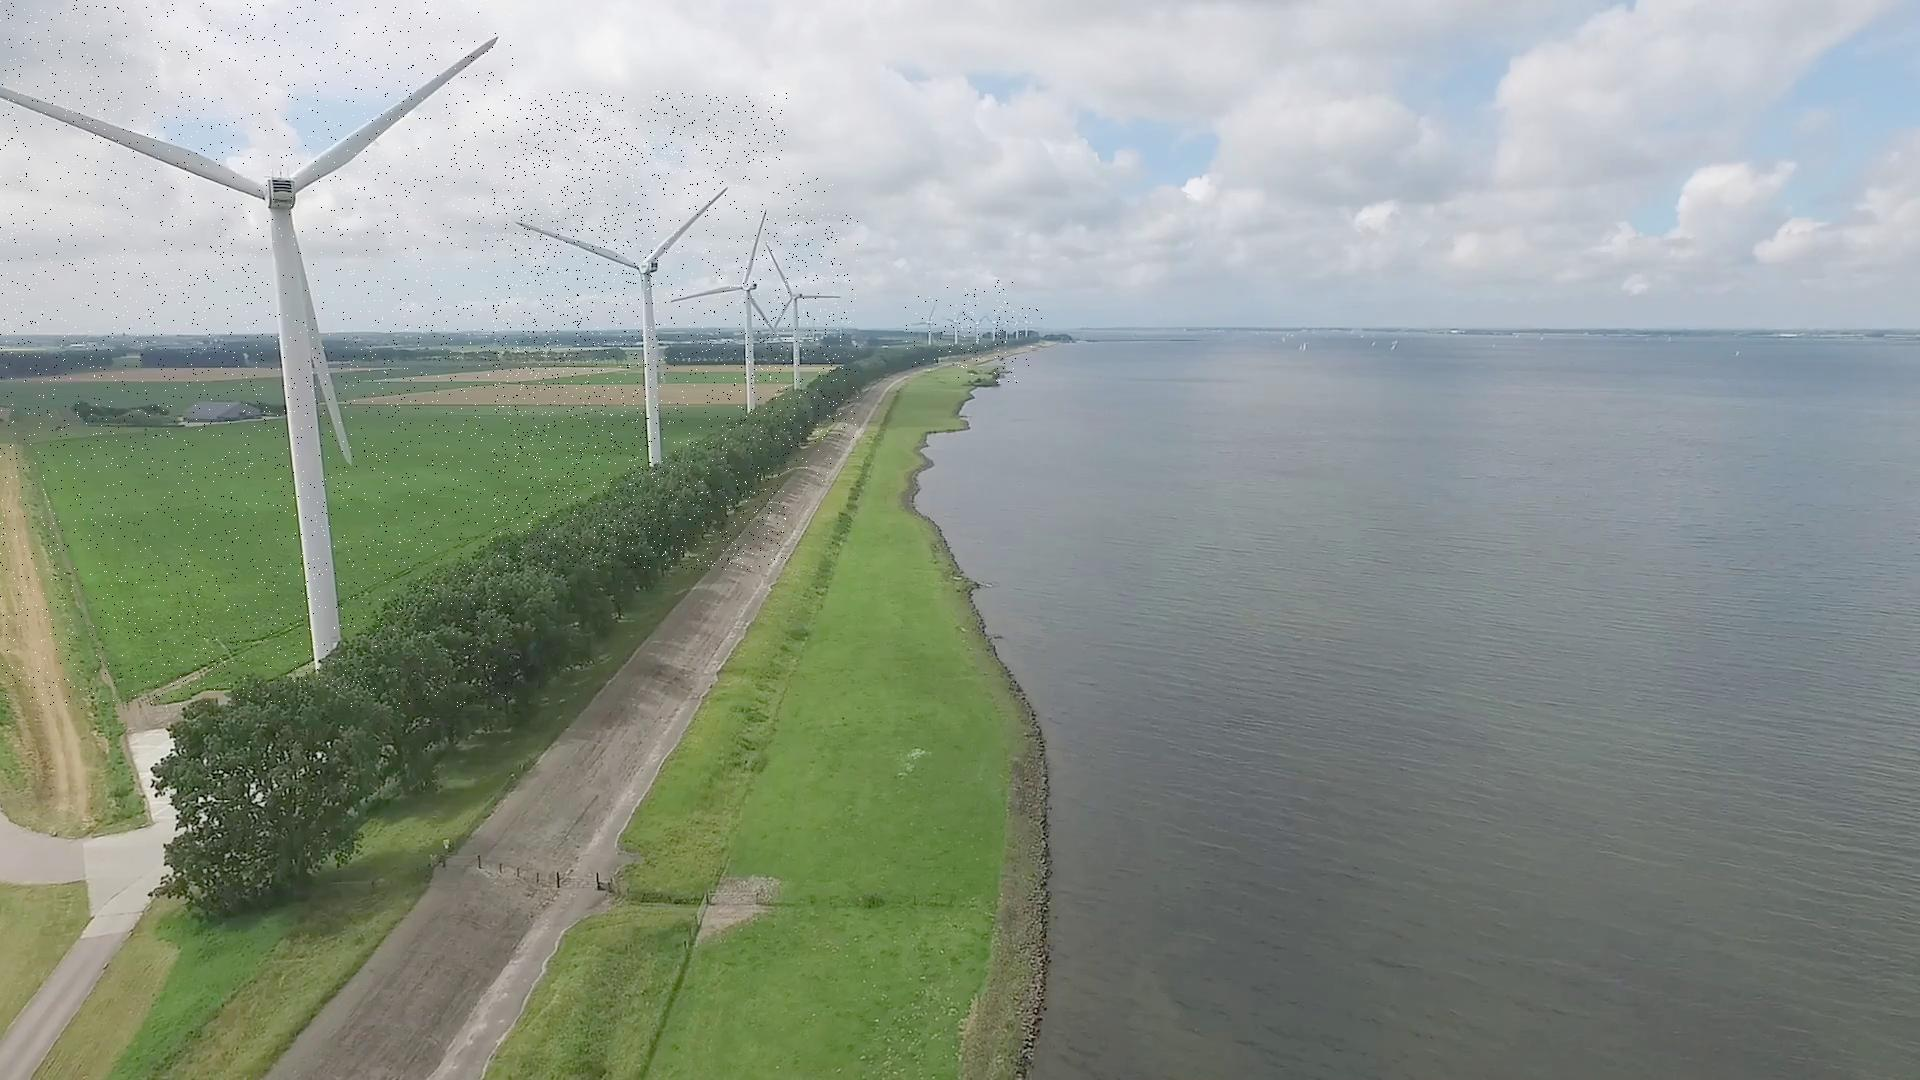turbine: (0, 0, 513, 709), (495, 91, 787, 571), (658, 173, 833, 481), (738, 216, 858, 444), (906, 290, 953, 375), (939, 287, 975, 378), (994, 278, 1022, 384), (978, 287, 1009, 375), (1007, 277, 1030, 377), (961, 286, 986, 371), (1018, 309, 1043, 349)
